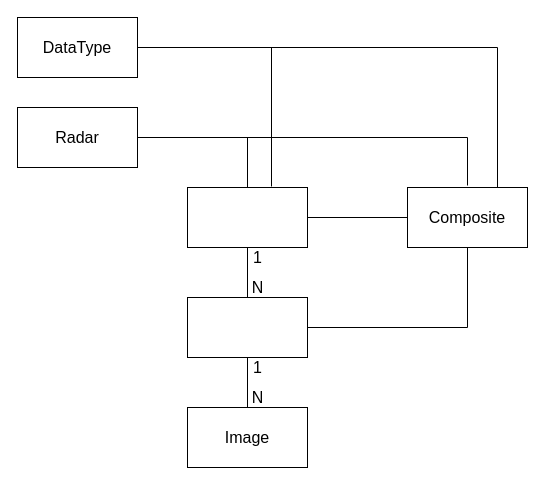
The diagram is 545 pixels wide and 485 high, and some of its shapes have lost their labels. Each missing label, with the centre of its shape:
Product: the point at 247,217
ProductVariant: the point at 247,327
